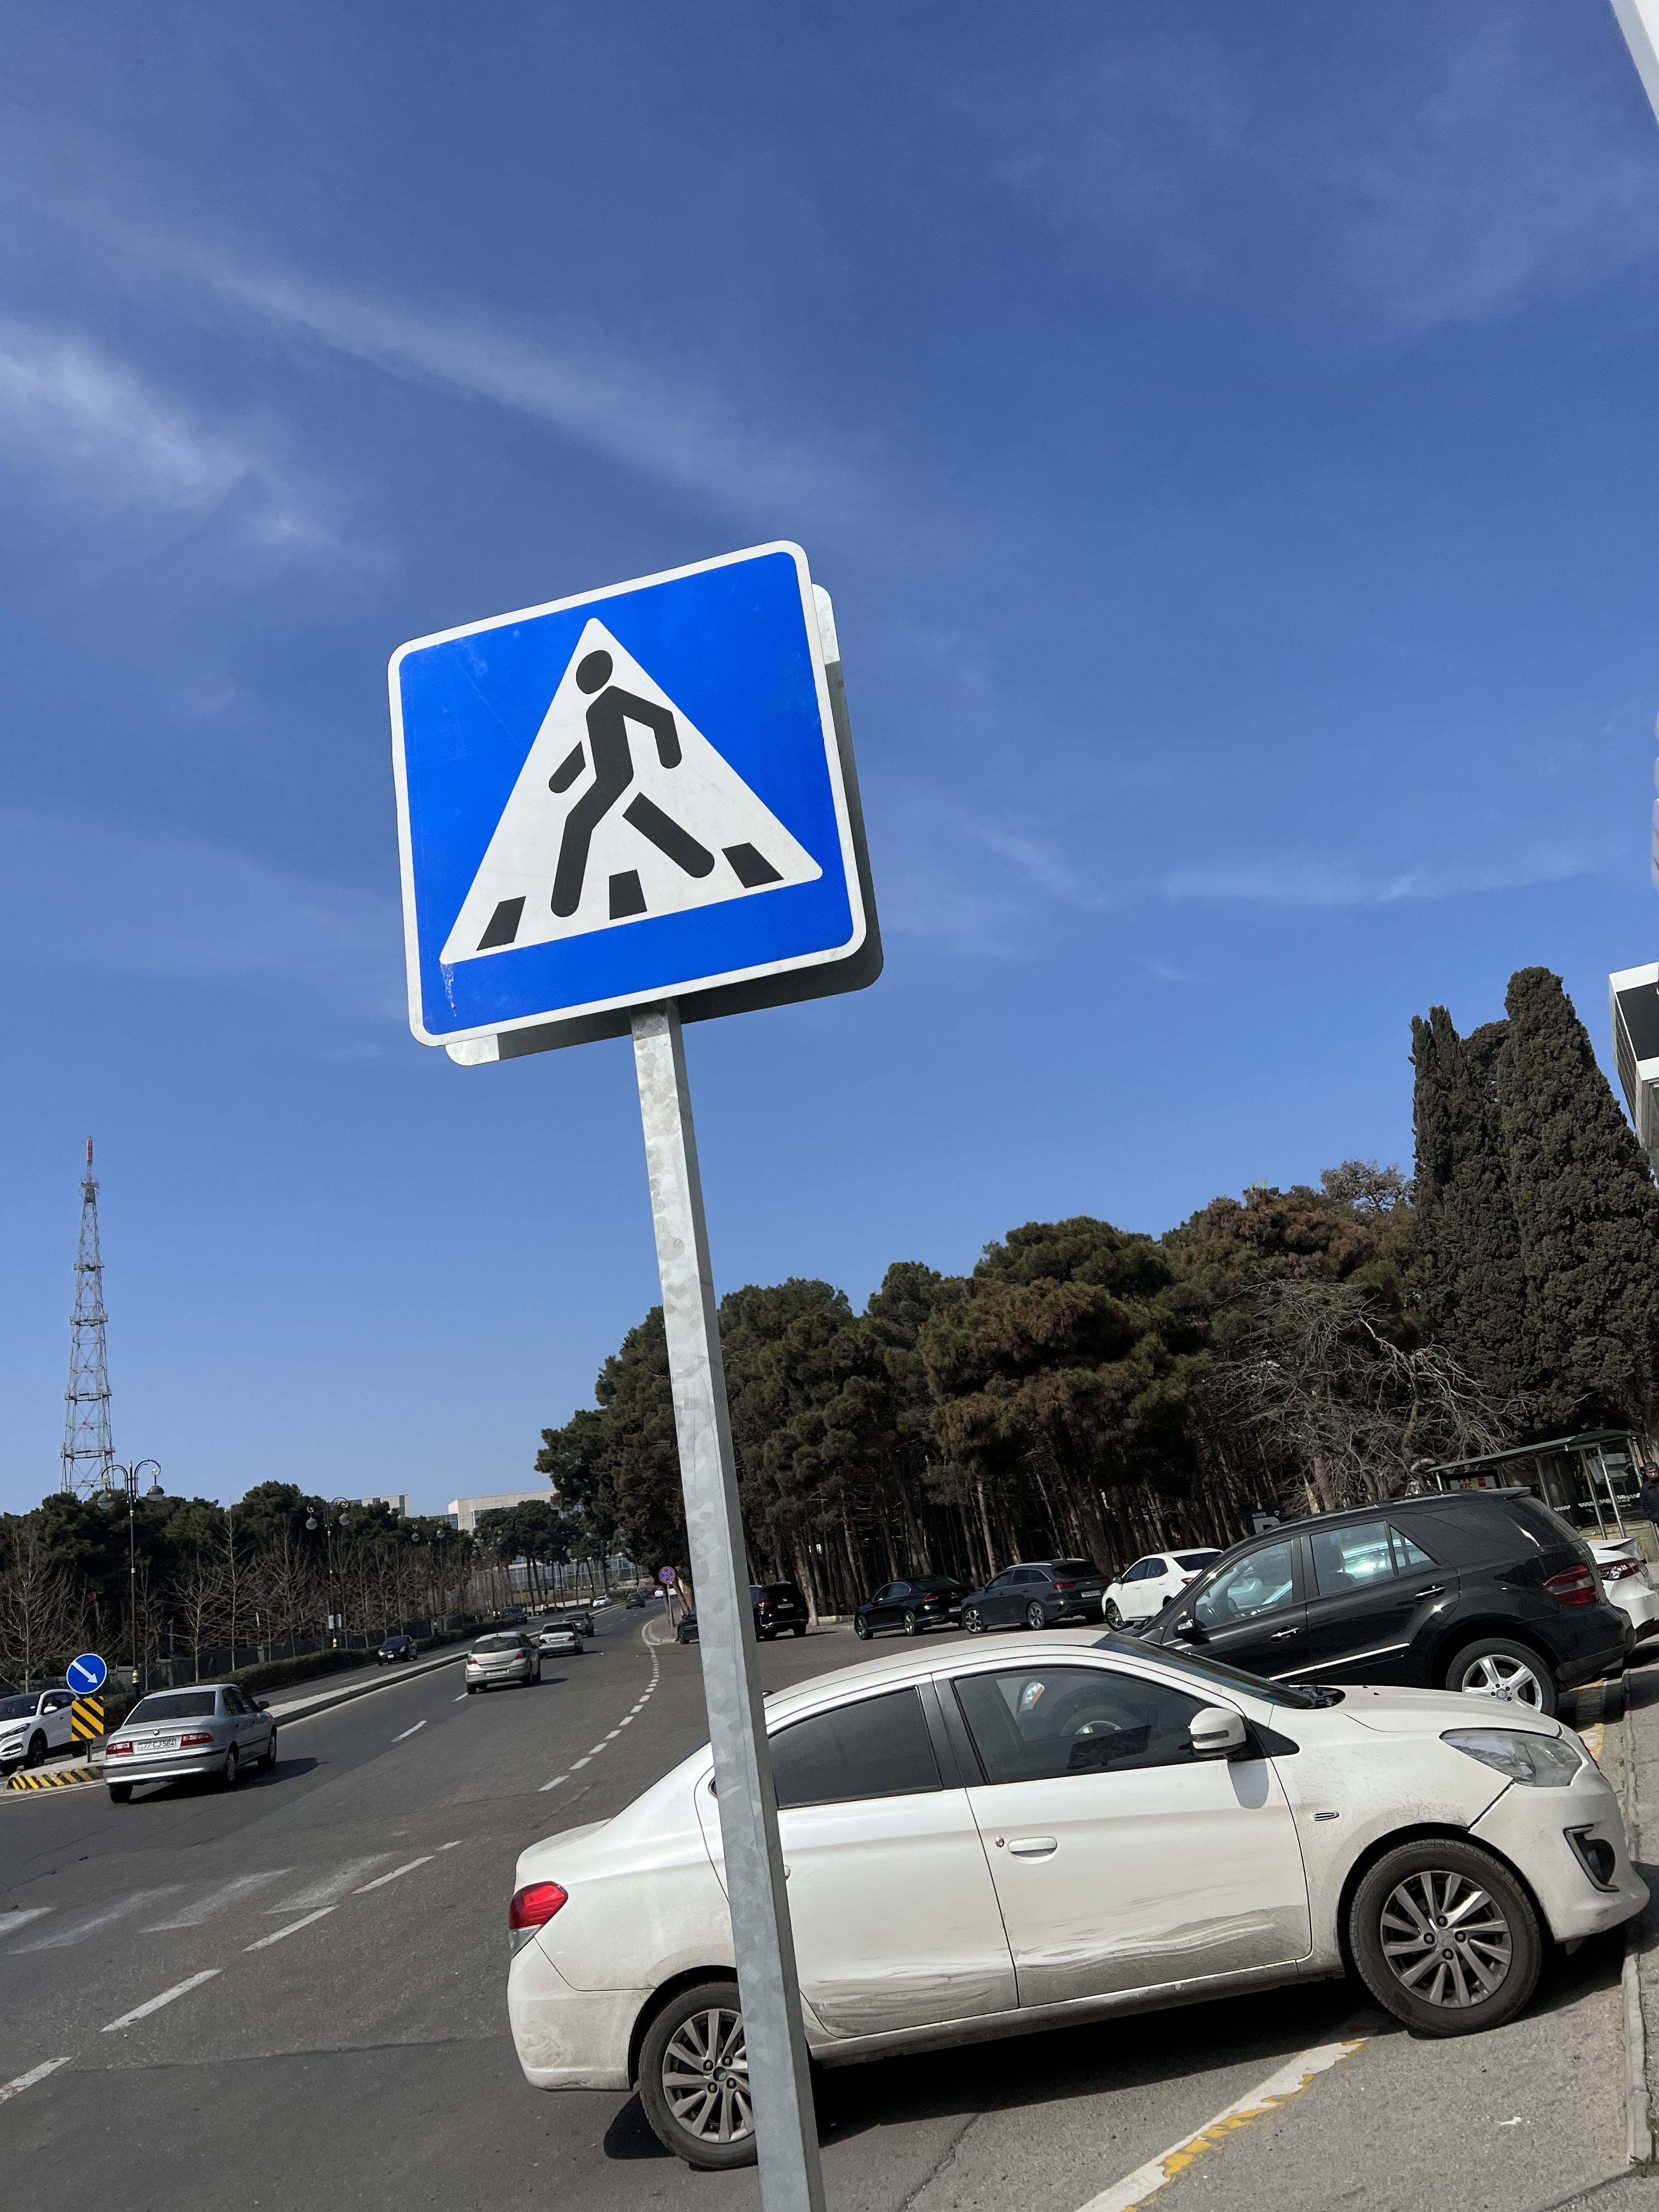Pedestrian Crossing: (410, 538, 847, 1022)
